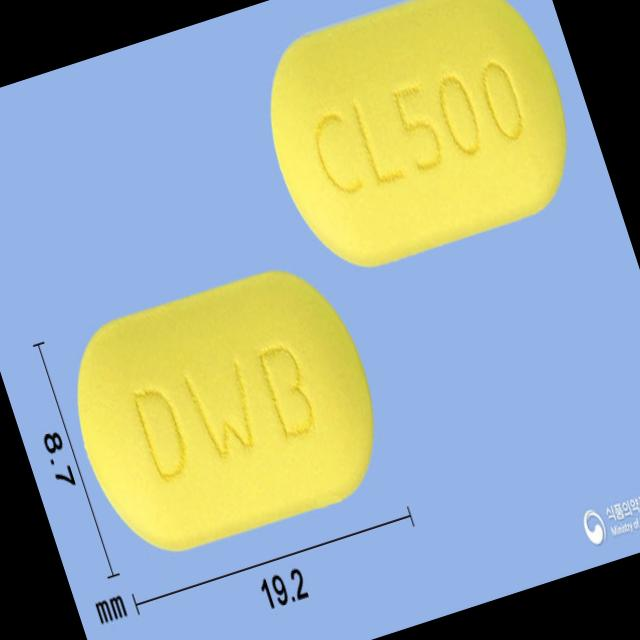Daewoong Bio Clarithromycin: (48, 244, 404, 576), (243, 0, 595, 285)
